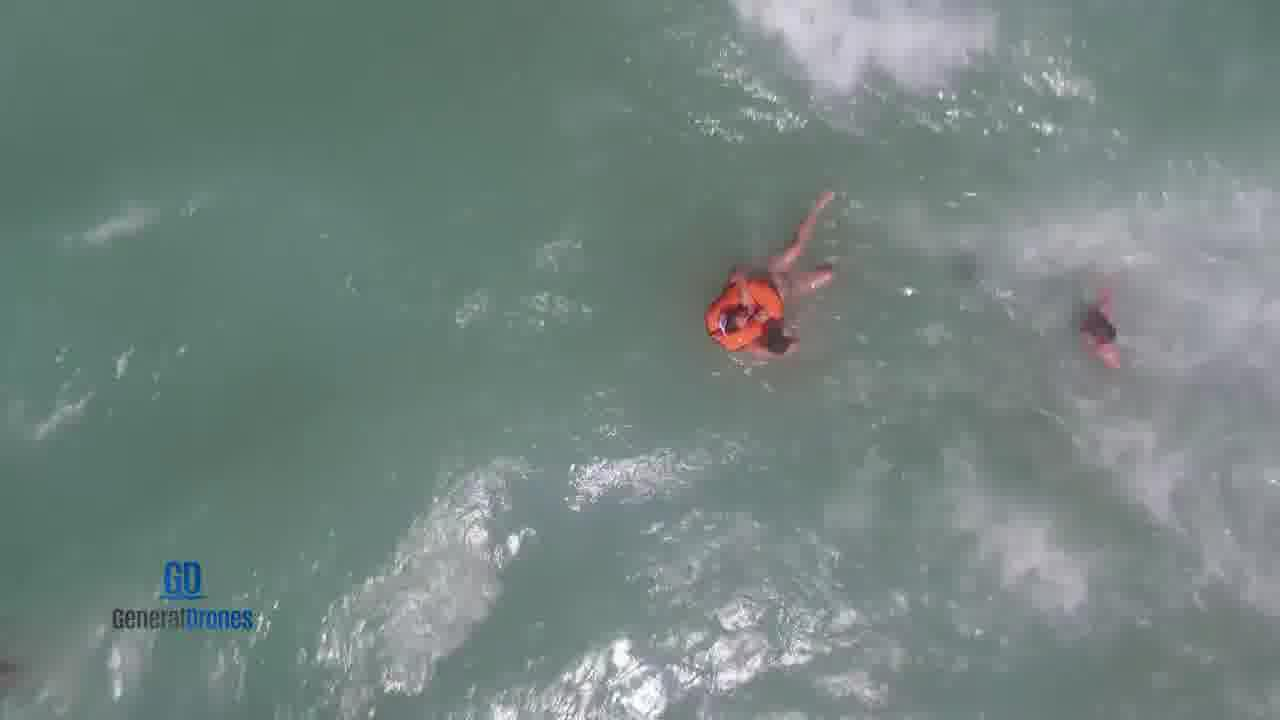swimmer: (727, 182, 842, 332), (1065, 279, 1134, 368), (750, 314, 812, 368)
